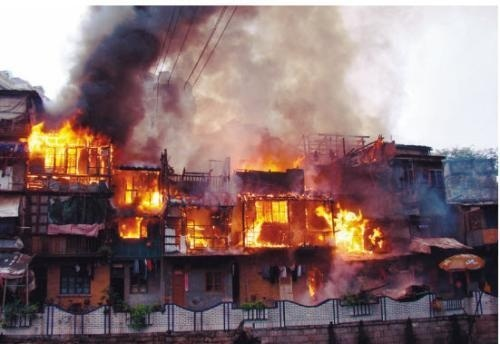fire: (23, 120, 167, 239), (314, 201, 385, 256)
